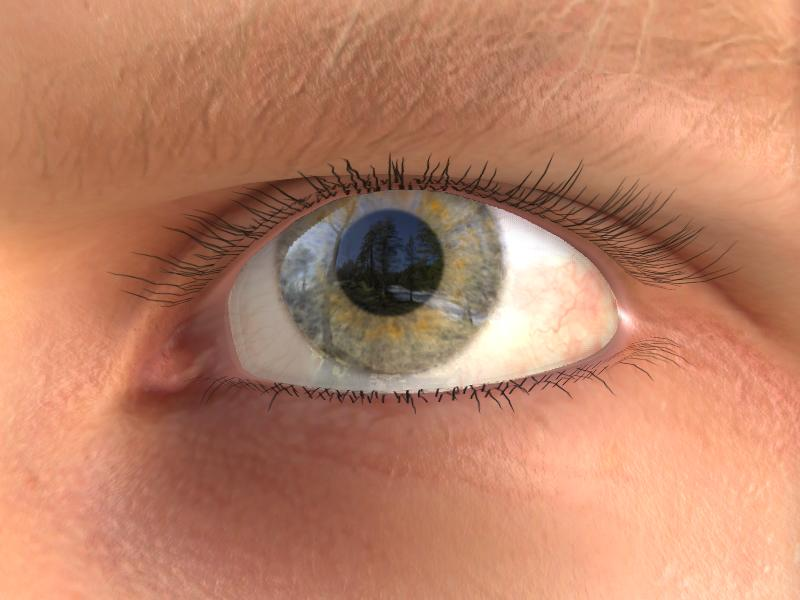eye: (273, 189, 499, 375)
